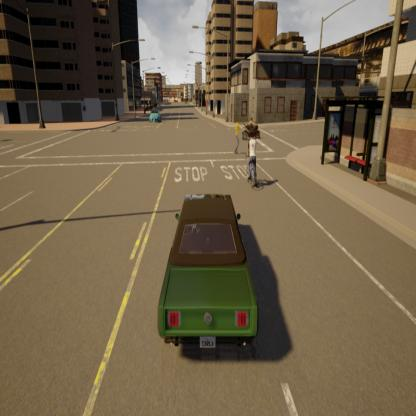Cars: (148, 186, 263, 358), (246, 129, 261, 190), (242, 114, 261, 138), (147, 107, 162, 123)
Pedestrian: (231, 113, 243, 156)
